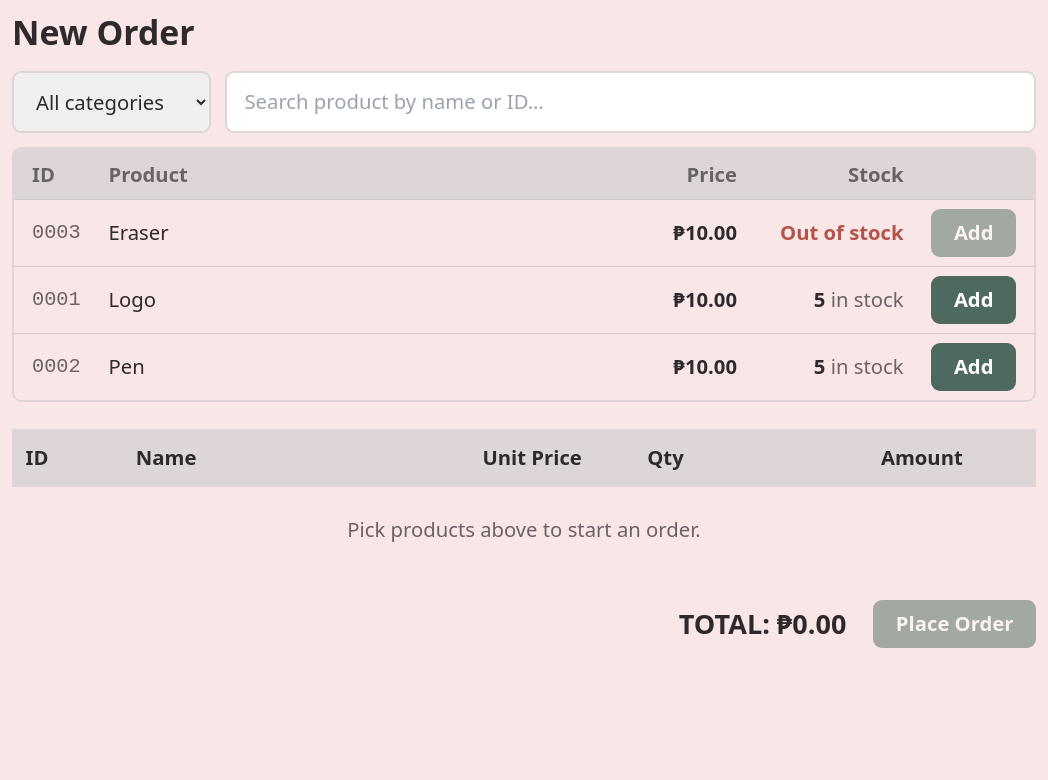
Test: OrderPage product browsing › filters the list instantly as you type, and restores on clear
Expected: the list named "Products" shows "Logo", 108,285 -> 156,313
Step 1. Type "Lo" into the field labelled "Search product by name or ID" → (630, 102), box 224,70 -> 1036,133
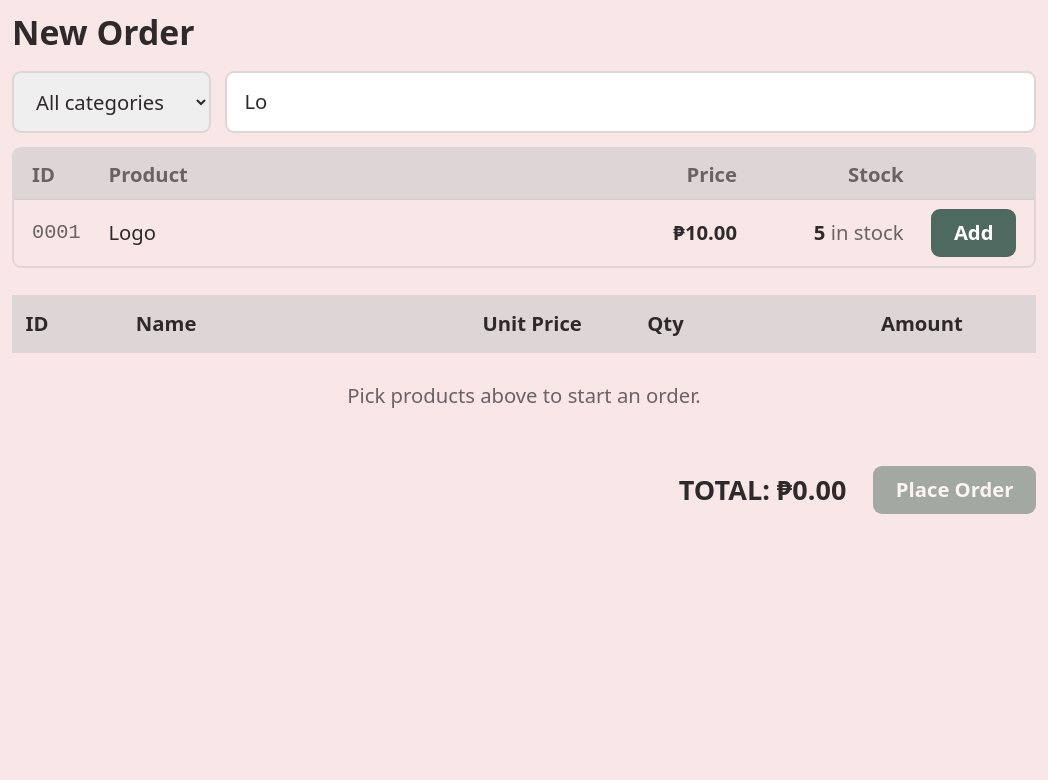
Expected: the list named "Products" shows "Logo", 108,218 -> 156,246
Result: the text "Products" no longer shows "Pen"
Step 2. Clear the field named "Search product by name or ID" → (630, 102), box 224,70 -> 1036,133
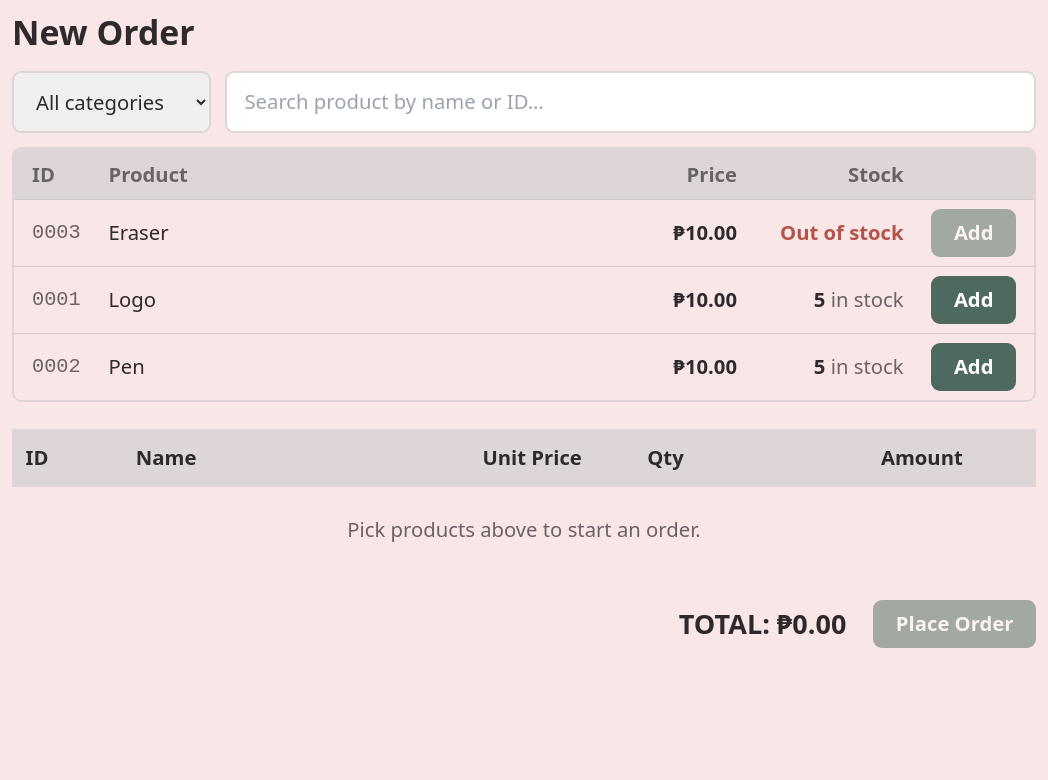
Result: the list named "Products" shows "Pen" at 108,352 -> 145,380
